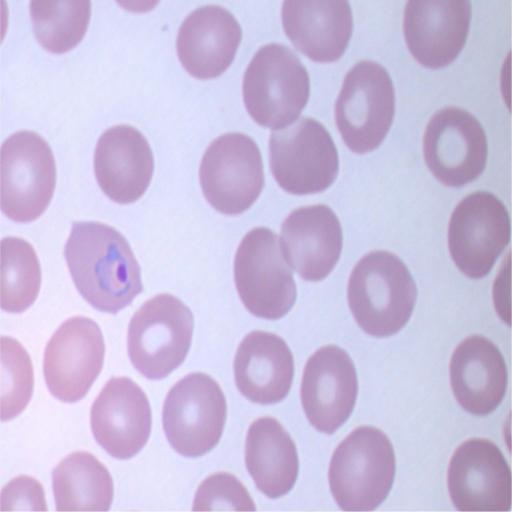Infected: (63, 223, 144, 314)
Uninfected: (124, 293, 195, 382), (347, 250, 417, 338), (327, 427, 398, 512), (233, 226, 296, 319), (40, 316, 107, 403), (266, 117, 342, 193), (200, 131, 266, 218), (333, 61, 394, 153), (162, 370, 226, 456), (244, 44, 309, 128), (89, 376, 153, 461), (449, 191, 509, 280), (424, 104, 489, 185), (302, 345, 359, 437), (92, 124, 154, 203), (448, 336, 508, 417), (281, 204, 343, 282), (234, 330, 296, 406), (404, 1, 472, 69), (0, 134, 54, 219), (450, 438, 512, 512), (177, 6, 241, 76), (280, 0, 353, 61), (247, 417, 301, 496), (51, 450, 113, 512), (0, 236, 44, 317)
